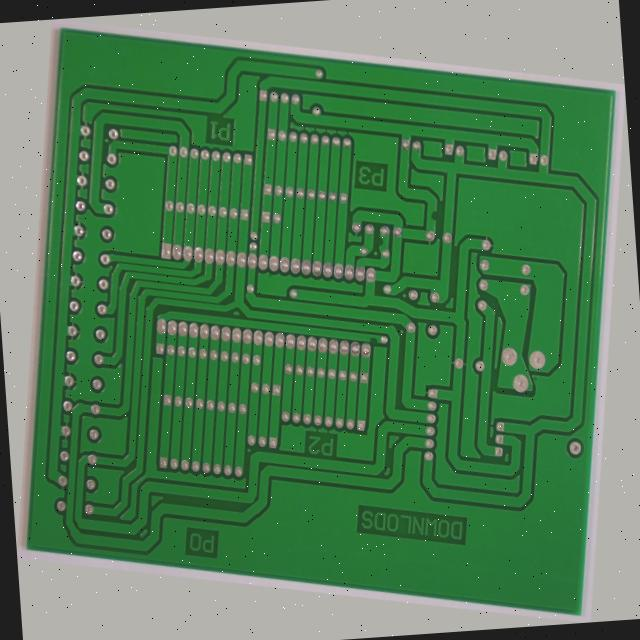mouse_bite: (418, 161, 434, 183), (370, 322, 392, 338), (368, 204, 378, 224)
